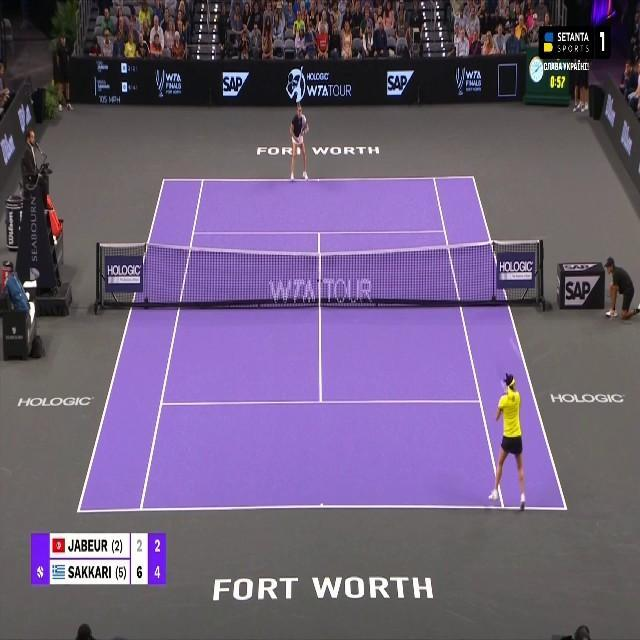left side: (434, 178, 567, 510), (78, 180, 203, 512)
player: (487, 372, 531, 510), (289, 104, 310, 181)
